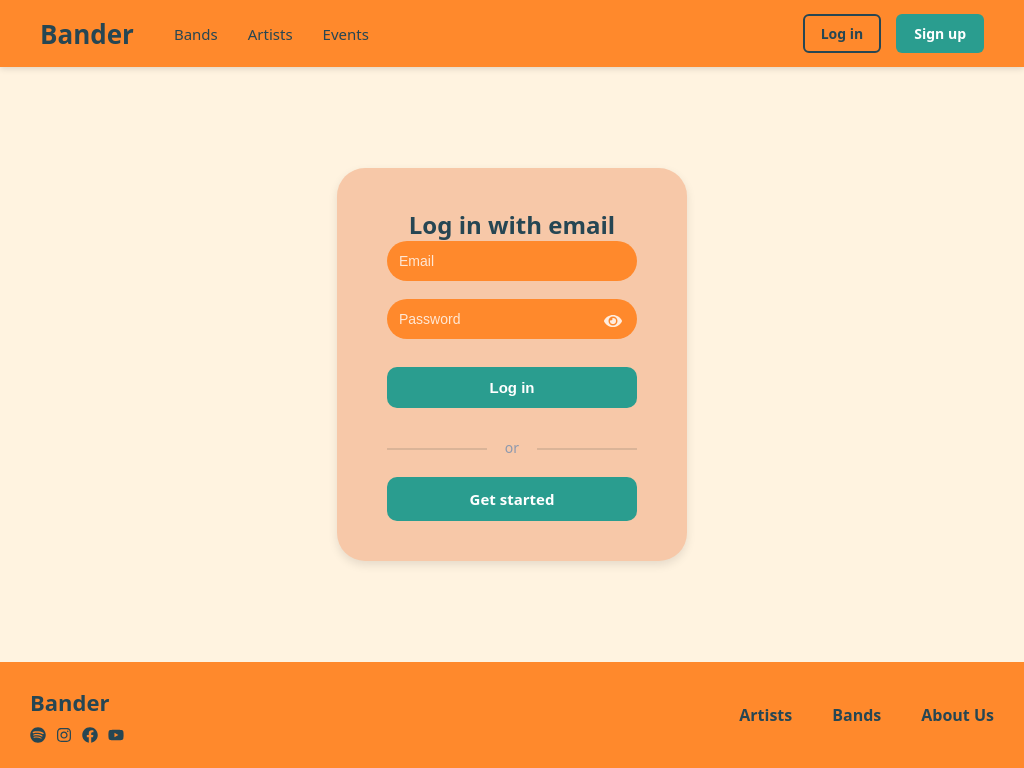
it: Bander – bejelentkezés › TC-FE-008 – Kötelező mezők
Click the button "Log in".
click(512, 388)  # box [387,367,637,408]
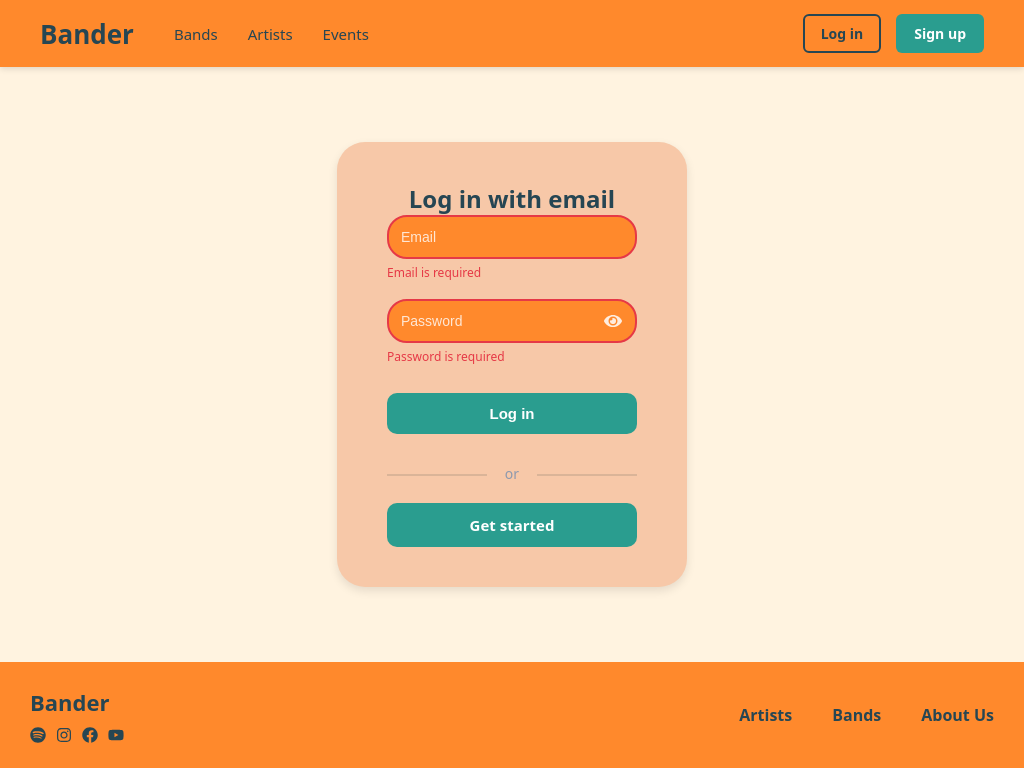
Now the text "Email is required" is shown, box [387,264,481,281]
Now the text "Password is required" is shown, box [387,348,505,365]
